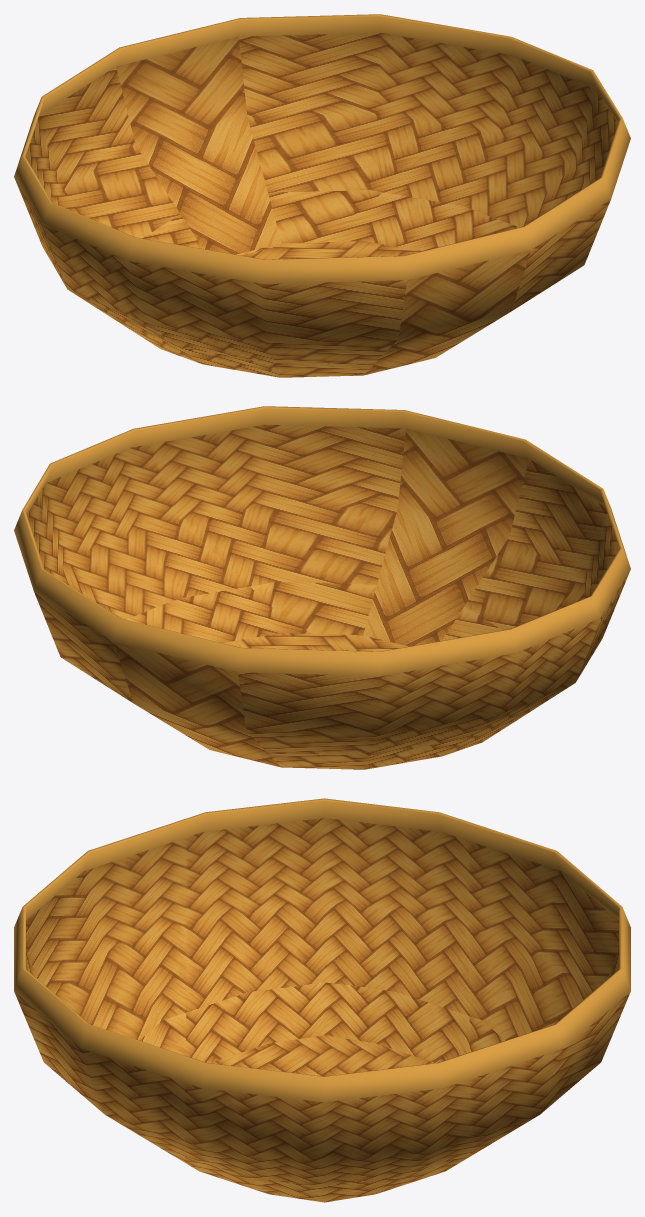
The model's file is tampah.fbx.
The picture shows the model from 3 angles, top to bottom: view 1: azimuth 30°, elevation 25°; view 2: azimuth 150°, elevation 25°; view 3: azimuth 270°, elevation 25°; orthographic projection. The views are drawn at different scales.
Visible parts, largest first — view 1: tampah.003; view 2: tampah.003; view 3: tampah.003.
Part boxes in pixels (x1=…): tampah.003: x1=14, y1=14, x2=630, y2=377; tampah.003: x1=14, y1=406, x2=630, y2=769; tampah.003: x1=14, y1=798, x2=630, y2=1202.
Bounding box in the file's own units: 113 × 33.68 × 103.
